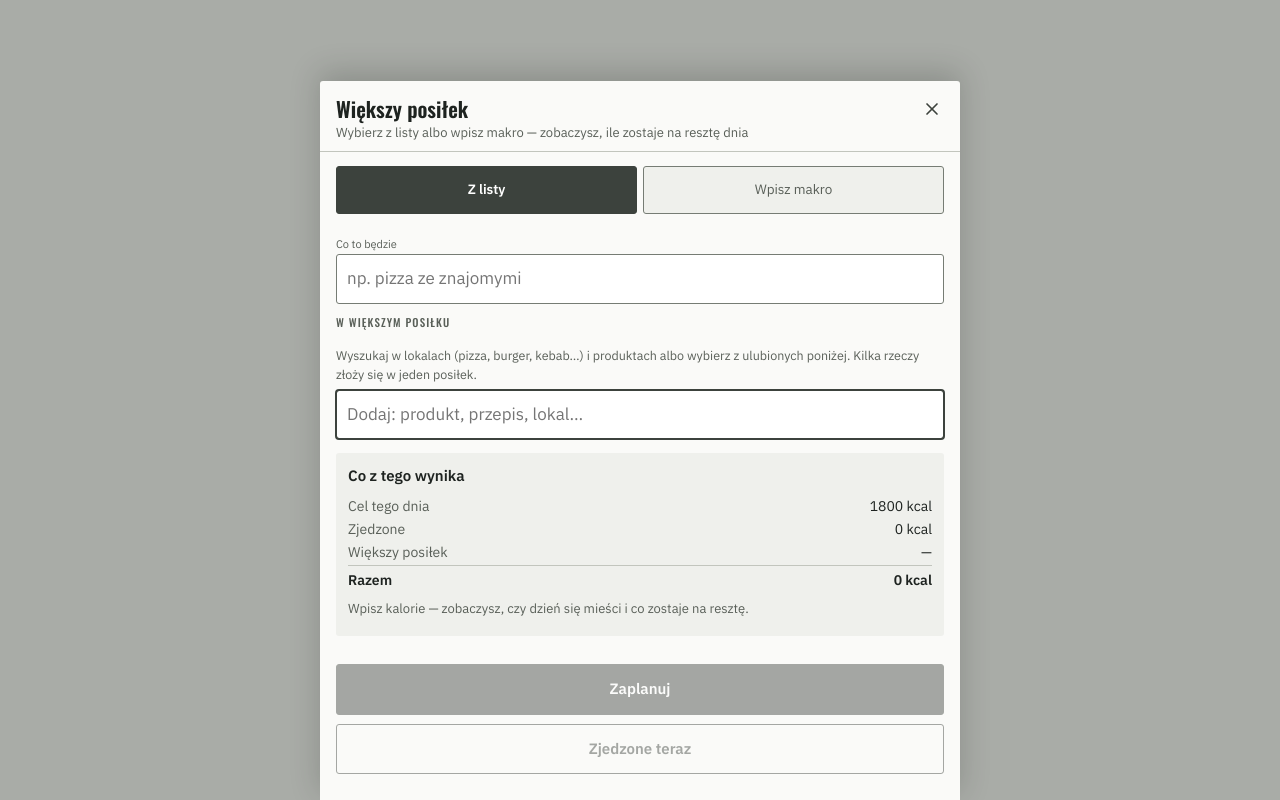
Test: arkusz „Większy posiłek” › cel to cel tego dnia z historii celu; przyszły dzień można zaplanować, zjeść jeszcze nie
Click the button "Wpisz makro" at (794, 190), box [643, 166, 944, 214]
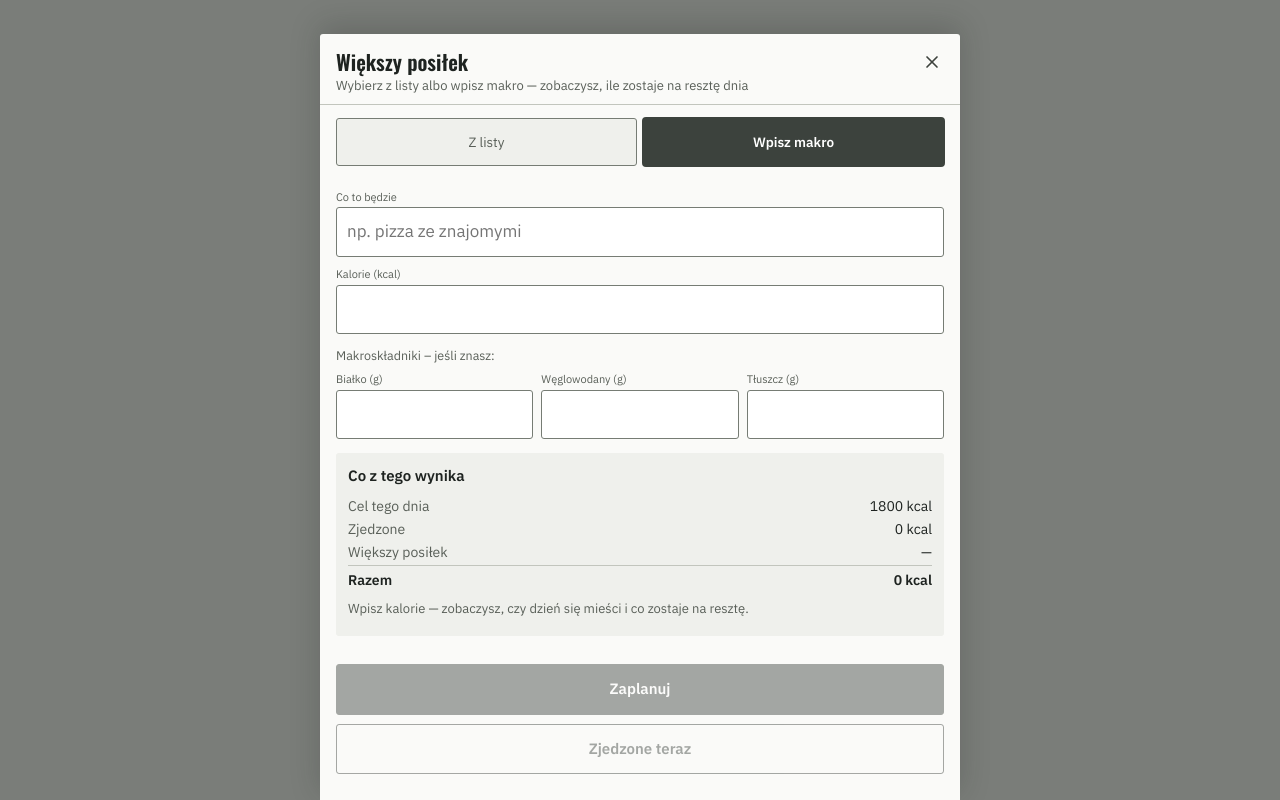
Type "1000" into the field labelled "Kalorie (kcal)" at (640, 310), box [336, 285, 944, 334]
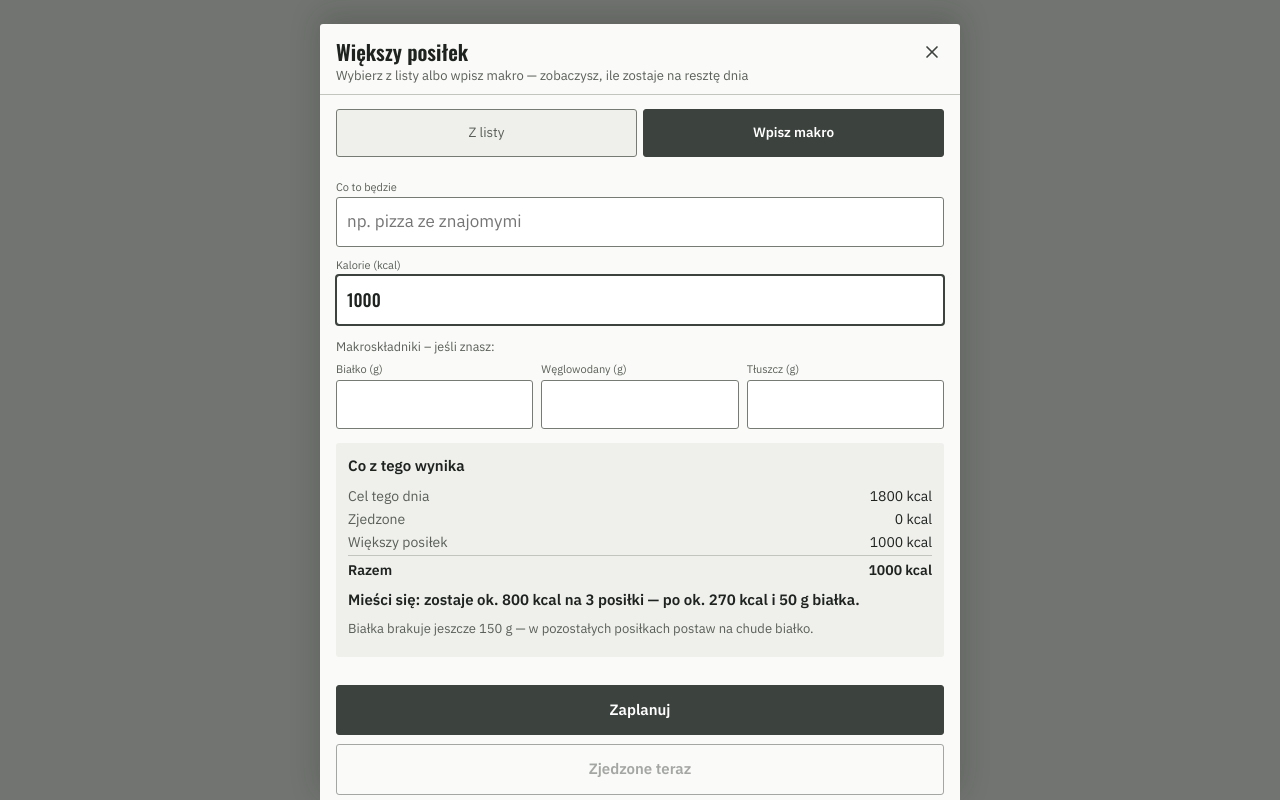
Check: the button "Zjedzone teraz" is disabled, box [336, 744, 944, 795]
Check: the button "Zaplanuj" is enabled, box [336, 685, 944, 735]
